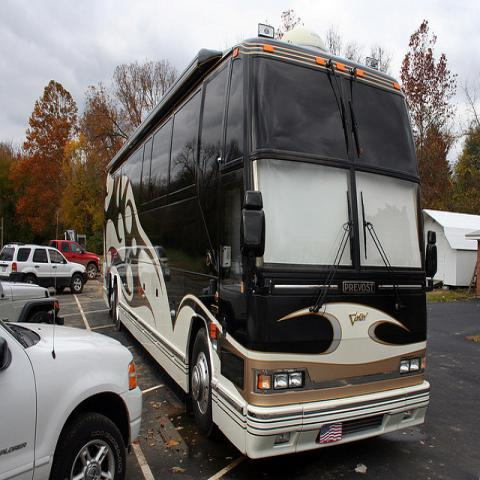bus: (102, 25, 430, 457)
car: (0, 322, 146, 474), (0, 243, 90, 294), (0, 276, 66, 323)
truck: (47, 240, 102, 279)
